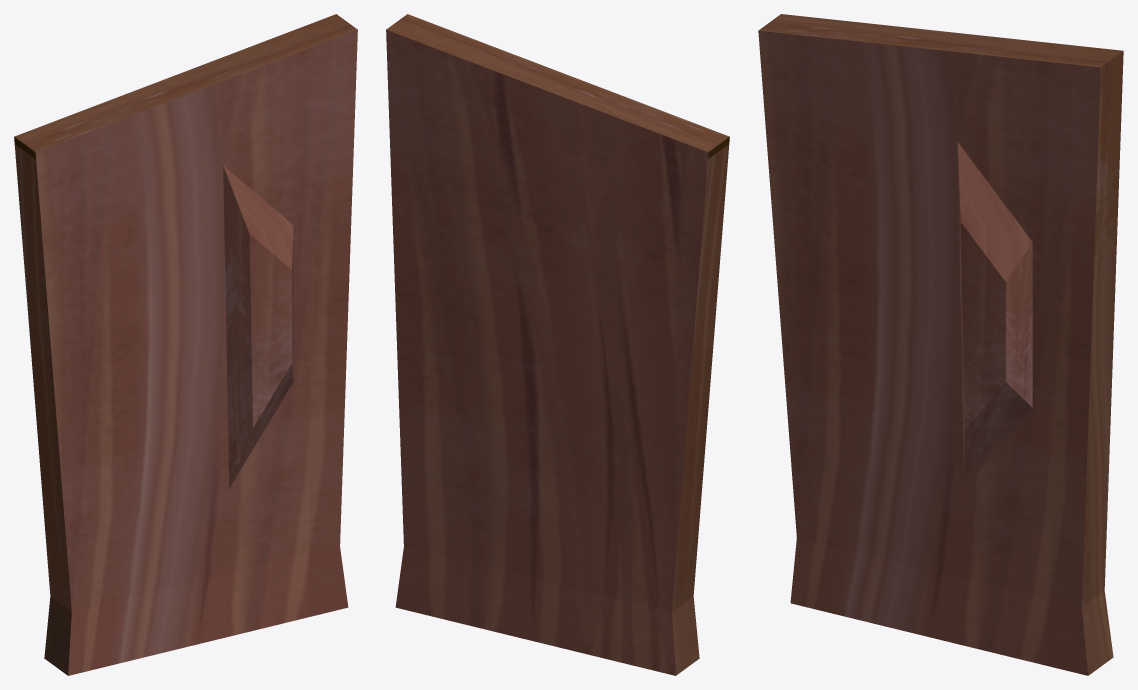
The model's file is puerta_intermedia.glb.
3 renders of one model, left to right at view 1: azimuth 30°, elevation 25°; view 2: azimuth 150°, elevation 25°; view 3: azimuth 330°, elevation 25°, orthographic. The views are drawn at different scales.
Visible parts, largest first — view 1: G_puerta2.002; view 2: G_puerta2.002; view 3: G_puerta2.002.
Part boxes in pixels (x1,y1,x2,y2): G_puerta2.002: (14, 14, 357, 675); G_puerta2.002: (386, 14, 729, 675); G_puerta2.002: (758, 14, 1123, 675).
Size of the model in its own units: 3.6 by 6.13 by 0.6632.
1 material, 1 textured.
